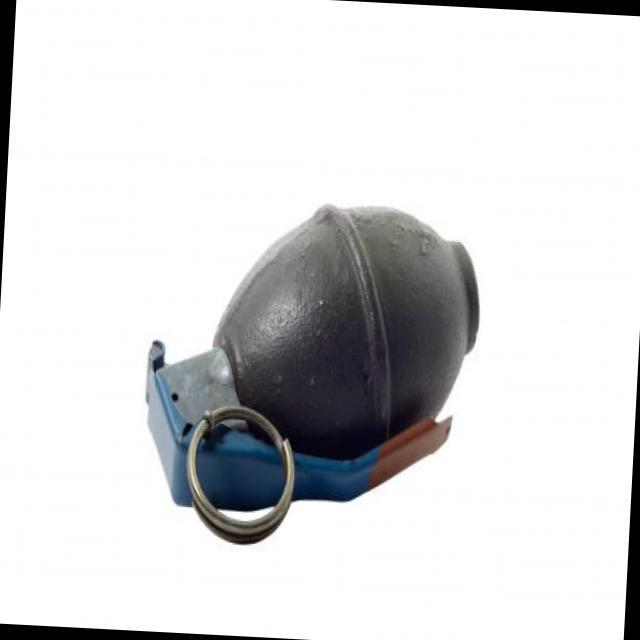grenade: (136, 190, 490, 559)
